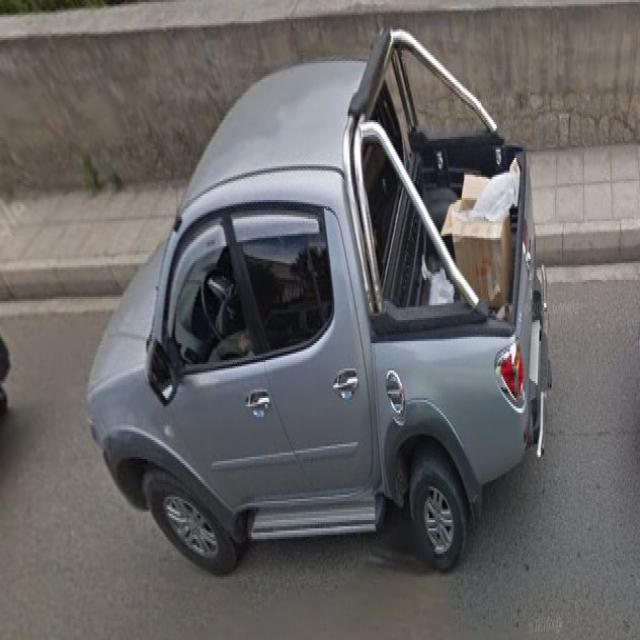truck: (92, 59, 546, 568)
